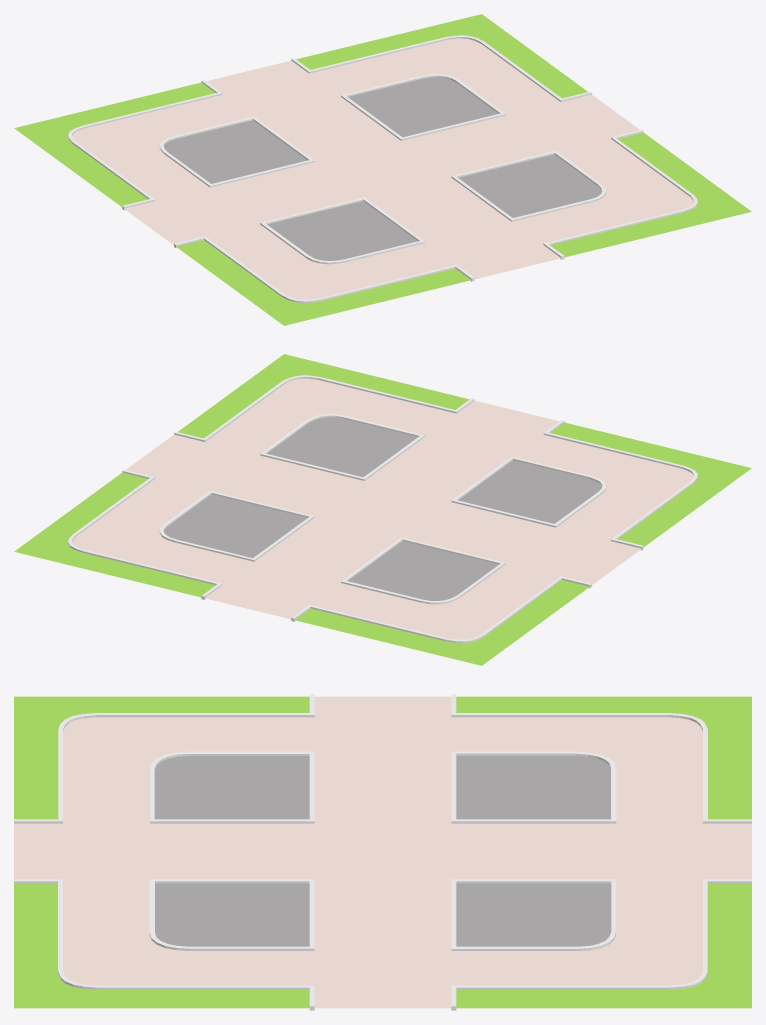
File: building_platform_001.glb
3 renders of one model, top to bottom at view 1: azimuth 30°, elevation 25°; view 2: azimuth 150°, elevation 25°; view 3: azimuth 270°, elevation 25°, orthographic. The views are drawn at different scales.
Parts seen in each view (by area): view 1: building_platform_001; view 2: building_platform_001; view 3: building_platform_001.
Part boxes in pixels (bbox=[...]): building_platform_001: bbox=[14, 14, 751, 325]; building_platform_001: bbox=[14, 354, 751, 665]; building_platform_001: bbox=[14, 694, 751, 1010].
Size of the model in its own units: 30 by 0.2 by 30.
1 material, 1 textured.
